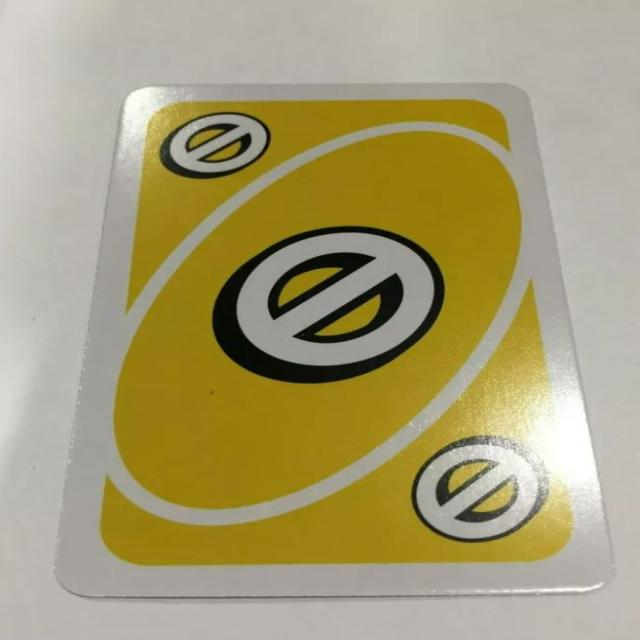Skip: (158, 102, 276, 185)
Yellow_Card: (92, 90, 586, 574)
